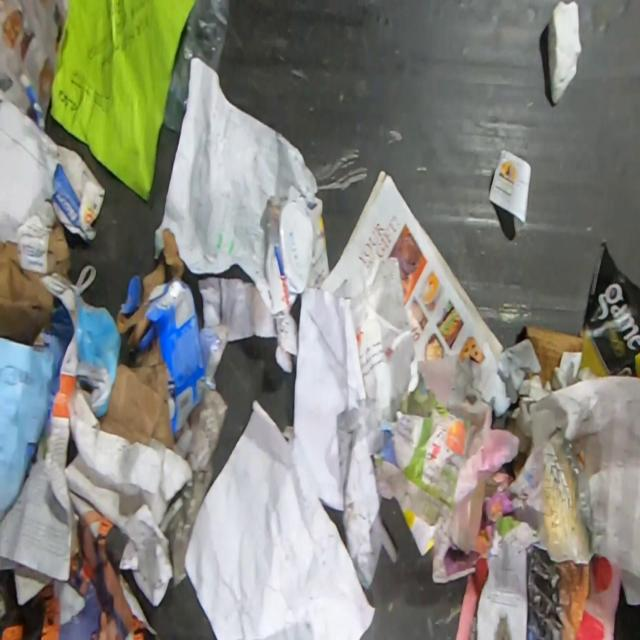cardboard: (117, 227, 221, 432), (0, 215, 72, 345), (98, 336, 174, 451), (526, 324, 585, 385)
rigid_plastic: (265, 199, 314, 315)
soft_plastic: (162, 0, 229, 135)
